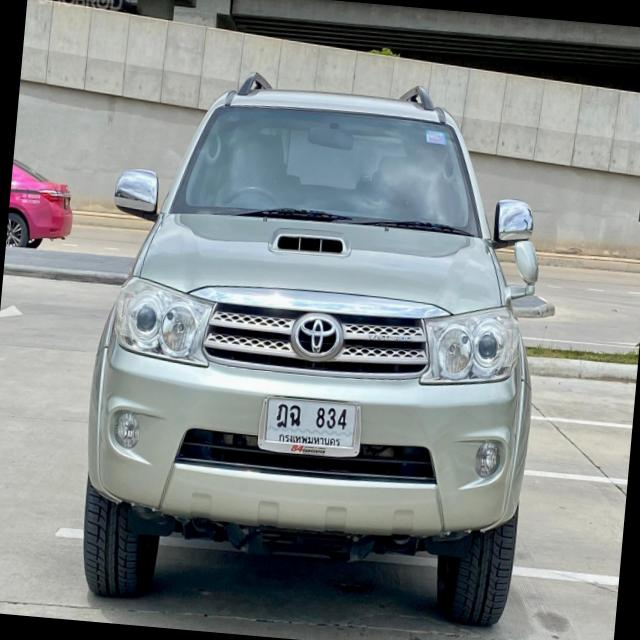license_plate: (252, 386, 370, 469)
